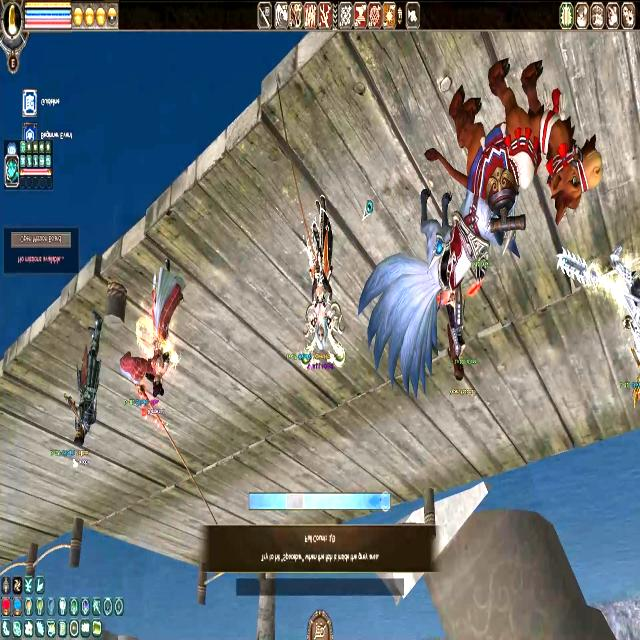fishes: (368, 492, 382, 510)
